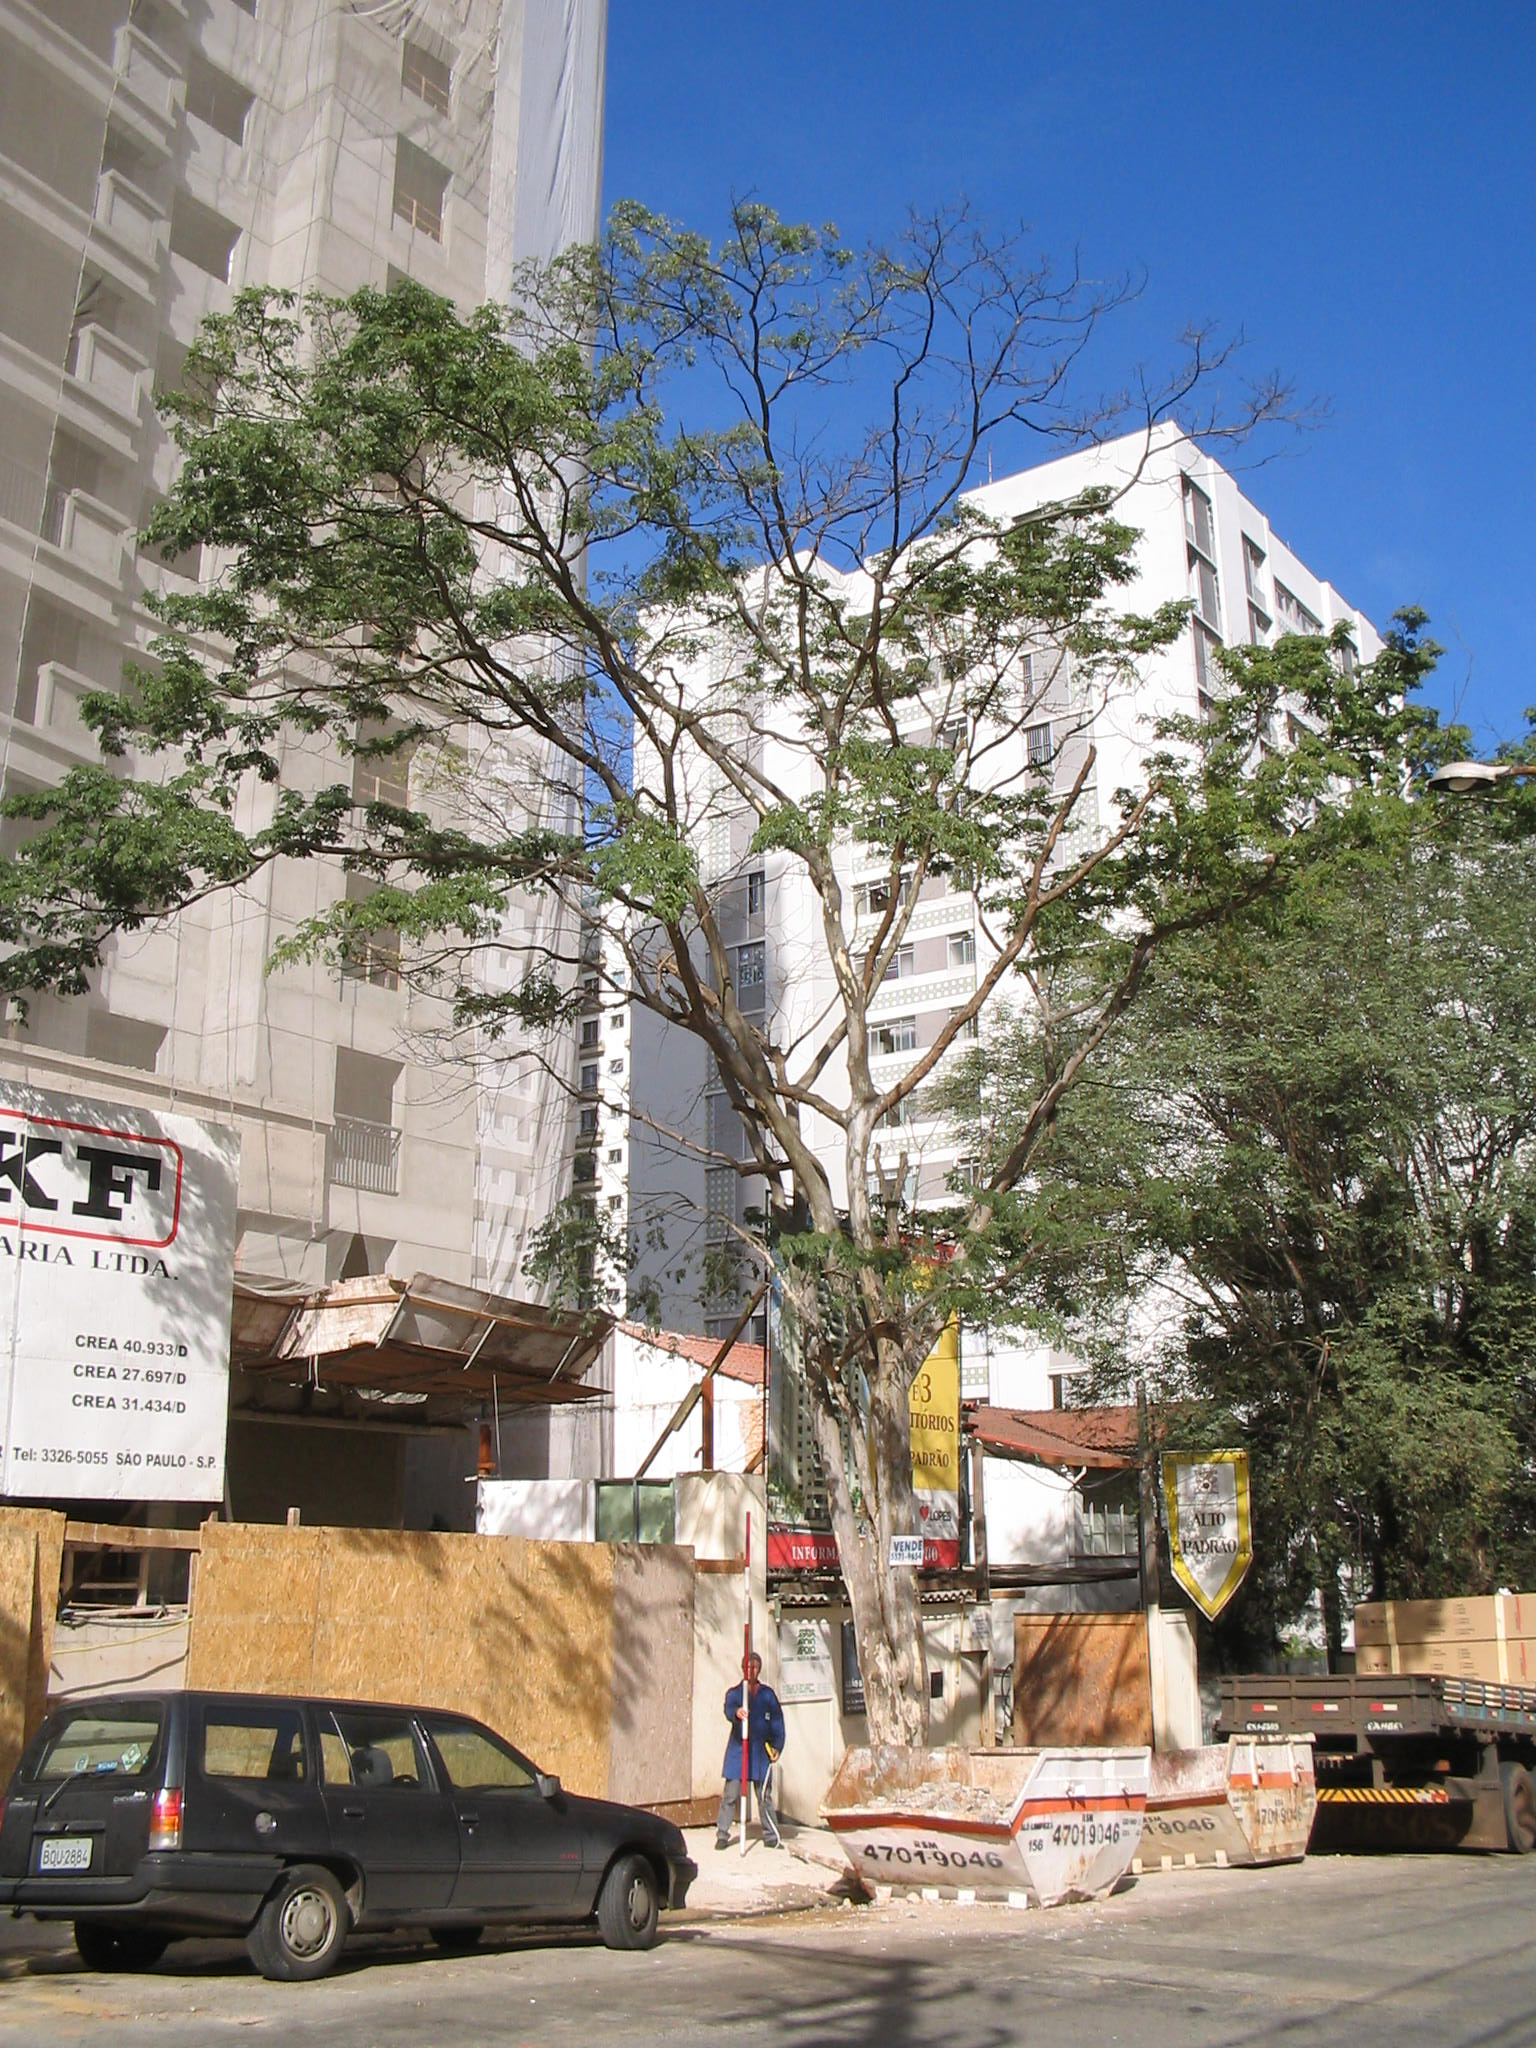crown: (15, 179, 1455, 1034)
stick: (726, 1508, 762, 1854)
tree: (6, 176, 1462, 1853)
